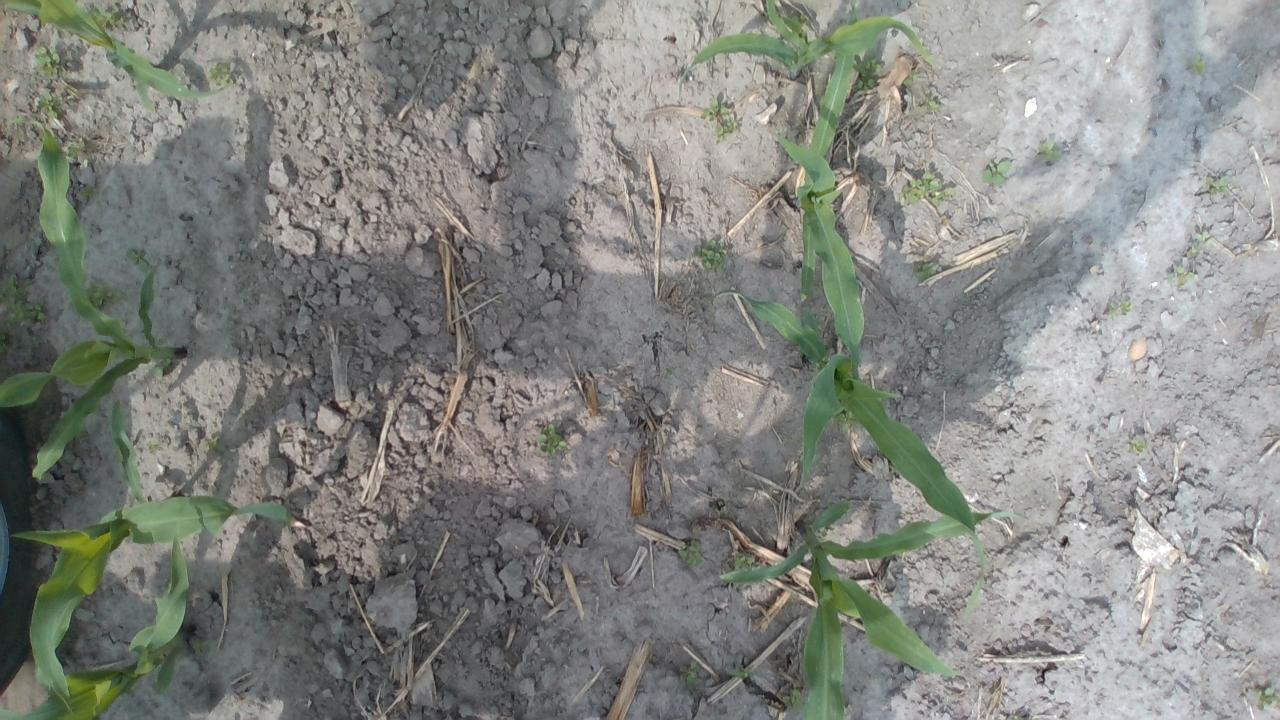Maize: (710, 286, 991, 616), (13, 398, 296, 714), (718, 495, 1036, 720), (0, 117, 186, 483), (0, 536, 189, 720), (774, 38, 868, 368), (674, 0, 930, 99), (0, 0, 218, 110)
Weeds: (0, 276, 46, 330), (902, 170, 950, 205), (700, 101, 736, 143), (537, 422, 571, 457), (850, 57, 881, 94), (92, 1, 130, 31), (694, 239, 728, 272), (36, 44, 68, 78), (88, 282, 128, 308), (678, 539, 704, 568), (206, 62, 235, 86), (126, 249, 152, 275), (678, 660, 702, 688), (1168, 265, 1194, 290), (983, 160, 1008, 185), (36, 87, 56, 118), (1255, 686, 1280, 710), (1188, 231, 1210, 257), (783, 687, 804, 714), (782, 10, 808, 31), (836, 410, 860, 432), (202, 434, 229, 453), (1206, 173, 1230, 194), (732, 554, 759, 570), (1109, 296, 1130, 316), (1037, 143, 1057, 164), (916, 261, 938, 280), (190, 638, 210, 655), (1192, 53, 1206, 75), (68, 140, 82, 160), (79, 184, 96, 200), (733, 665, 751, 679), (926, 98, 942, 112), (1129, 440, 1144, 454), (818, 522, 834, 534), (147, 442, 162, 454), (904, 72, 919, 84), (664, 367, 673, 376)
